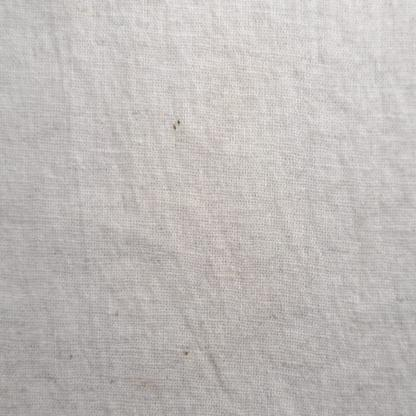spot: (169, 113, 182, 150), (132, 378, 160, 394), (180, 348, 193, 362), (112, 311, 120, 323), (69, 352, 75, 362), (115, 347, 120, 358)
